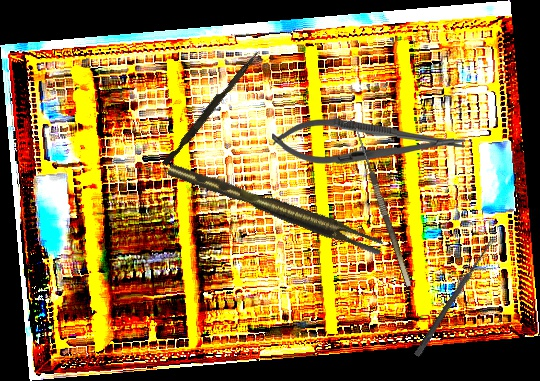Hook Surgical: (343, 117, 412, 291)
Needle Holder: (271, 117, 466, 168)
Pusher: (162, 47, 260, 169)
Surgical Spoon: (413, 237, 496, 358)
Tissue Forceps: (166, 152, 386, 263)
